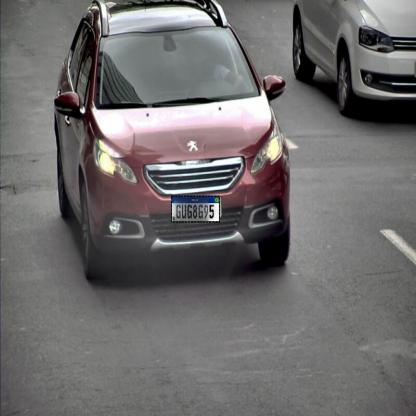PlacaM: (171, 196, 220, 223)
